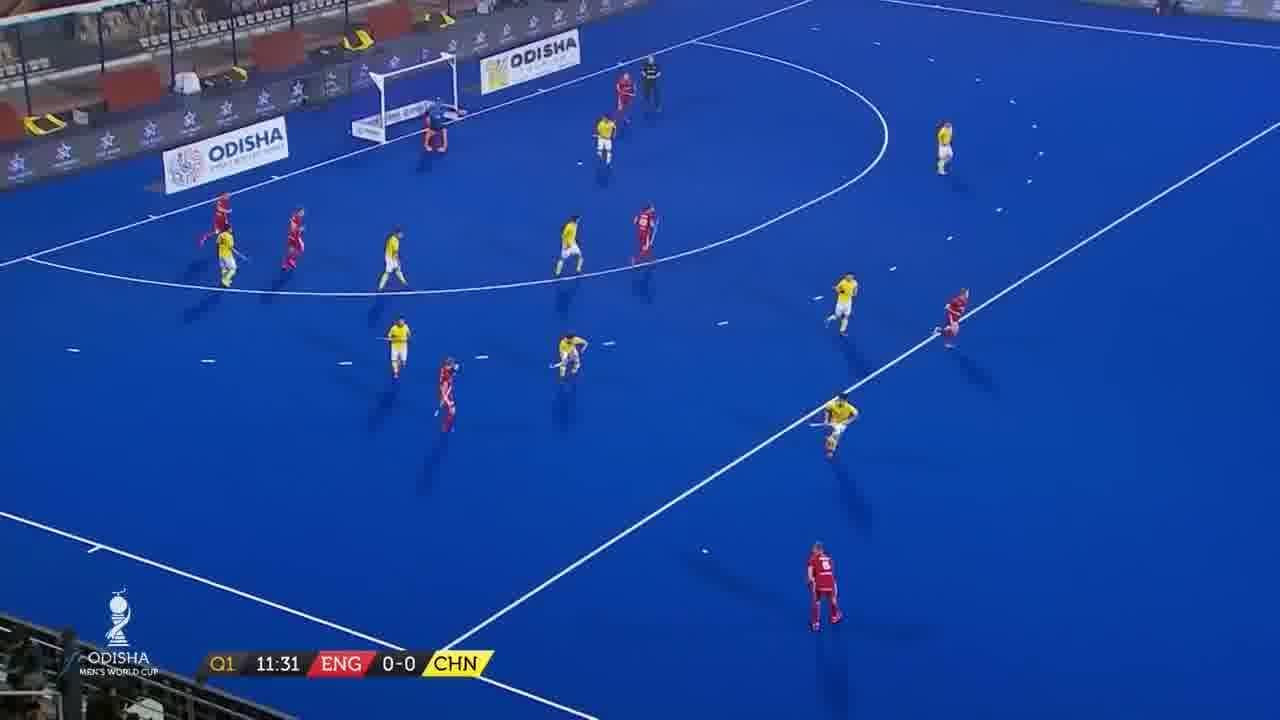ball: (697, 541, 715, 564)
